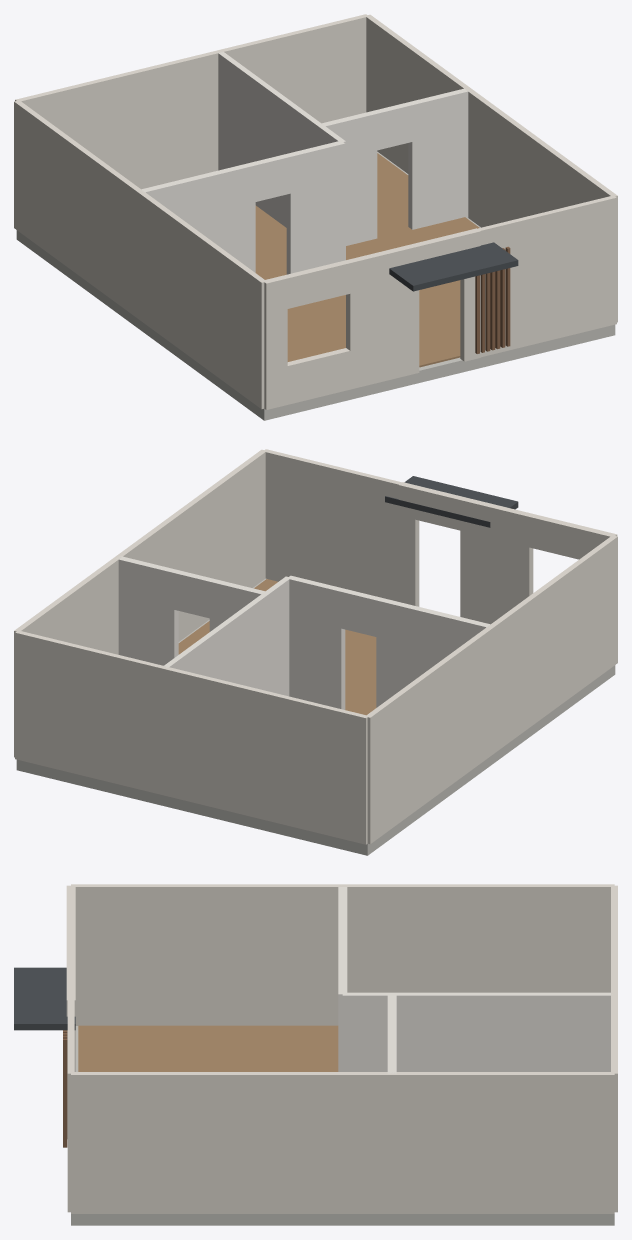
Rendered from architecture.glb.
3 views of the same model, one above another, from view 1: azimuth 30°, elevation 25°; view 2: azimuth 150°, elevation 25°; view 3: azimuth 270°, elevation 25° (orthographic). The views are drawn at different scales.
Parts seen in each view (by area): view 1: ARCH_Left_Exterior, ARCH_Rear_Exterior, ARCH_Right_Exterior, ARCH_Front_Right, ARCH_Oak_Interior_Floor, ARCH_Bedroom_Bath_Divider, ARCH_Bathroom_Partition_Right, ARCH_Bedroom_Partition_Right, ARCH_Foundation, ARCH_Bedroom_Partition_Left, ARCH_Front_Entry_Wall_Left, ARCH_Bathroom_Partition_Left (+9 smaller); view 2: ARCH_Rear_Exterior, ARCH_Left_Exterior, ARCH_Right_Exterior, ARCH_Front_Right, ARCH_Bedroom_Bath_Divider, ARCH_Bedroom_Partition_Right, ARCH_Foundation, ARCH_Bedroom_Partition_Left, ARCH_Bathroom_Partition_Right, ARCH_Front_Entry_Wall_Left, ARCH_Oak_Interior_Floor, ARCH_Front_Window_Wall_Right (+7 smaller); view 3: ARCH_Right_Exterior, ARCH_Left_Exterior, ARCH_Bedroom_Bath_Divider, ARCH_Oak_Interior_Floor, ARCH_Foundation, FACADE_Front_Canopy, ARCH_Rear_Exterior, ARCH_Front_Right, ARCH_Bedroom_Partition_Right, ARCH_Bedroom_Partition_Left, FACADE_Walnut_Slat_6.
Part boxes in pixels (x1,y1,x2,y2): ARCH_Left_Exterior: [14, 101, 264, 409]; ARCH_Rear_Exterior: [15, 14, 368, 189]; ARCH_Right_Exterior: [366, 14, 617, 322]; ARCH_Front_Right: [477, 196, 616, 357]; ARCH_Oak_Interior_Floor: [255, 153, 479, 367]; ARCH_Bedroom_Bath_Divider: [217, 52, 345, 260]; ARCH_Bathroom_Partition_Right: [408, 88, 469, 229]; ARCH_Bedroom_Partition_Right: [286, 140, 345, 274]; ARCH_Foundation: [16, 152, 615, 420]; ARCH_Bedroom_Partition_Left: [140, 162, 255, 272]; ARCH_Front_Entry_Wall_Left: [372, 243, 419, 383]; ARCH_Bathroom_Partition_Left: [319, 111, 377, 245]; ARCH_Rear_Exterior: [15, 630, 368, 844]; ARCH_Left_Exterior: [366, 536, 617, 844]; ARCH_Right_Exterior: [14, 449, 265, 757]; ARCH_Front_Right: [264, 449, 401, 601]; ARCH_Bedroom_Bath_Divider: [164, 576, 289, 696]; ARCH_Bedroom_Partition_Right: [287, 575, 345, 709]; ARCH_Foundation: [16, 578, 615, 855]; ARCH_Bedroom_Partition_Left: [376, 597, 490, 707]; ARCH_Bathroom_Partition_Right: [116, 556, 178, 665]; ARCH_Front_Entry_Wall_Left: [460, 497, 507, 624]; ARCH_Oak_Interior_Floor: [178, 579, 376, 715]; ARCH_Front_Window_Wall_Right: [504, 508, 533, 614]; ARCH_Right_Exterior: [71, 1072, 614, 1213]; ARCH_Left_Exterior: [71, 884, 614, 1025]; ARCH_Bedroom_Bath_Divider: [342, 992, 612, 1071]; ARCH_Oak_Interior_Floor: [78, 1025, 338, 1071]; ARCH_Foundation: [71, 1026, 614, 1225]; FACADE_Front_Canopy: [14, 967, 75, 1030]; ARCH_Rear_Exterior: [611, 885, 617, 1212]; ARCH_Front_Right: [67, 1000, 74, 1212]; ARCH_Bedroom_Partition_Right: [338, 965, 347, 1071]; ARCH_Bedroom_Partition_Left: [338, 887, 347, 946]; FACADE_Walnut_Slat_6: [63, 1038, 67, 1147].
Bounding box in the file's own units: 9.14 × 3.4 × 12.23.
